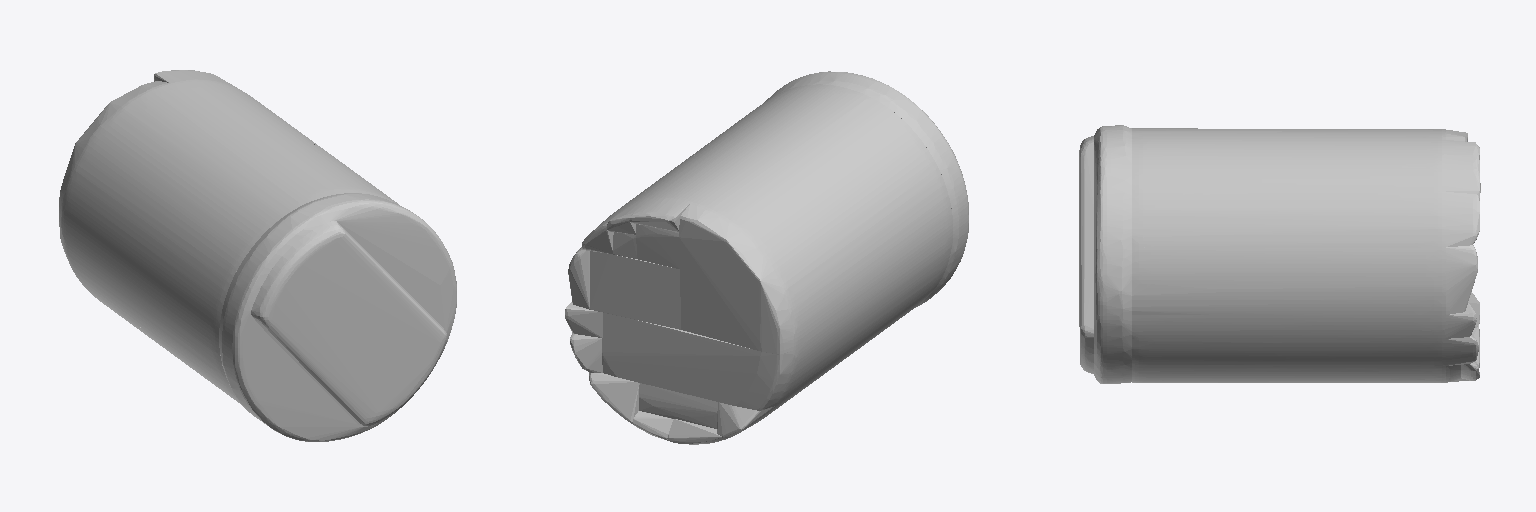
File: coacd_collision.obj
The picture shows the model from 3 angles: view 1: azimuth 30°, elevation 25°; view 2: azimuth 150°, elevation 25°; view 3: azimuth 270°, elevation 25°; orthographic projection.
Parts seen in each view (by area): view 1: geometry_2, geometry_0, geometry_1, geometry_3, geometry_17, geometry_11; view 2: geometry_2, geometry_3, geometry_17, geometry_5, geometry_1, geometry_9, geometry_11, geometry_16, geometry_14, geometry_10, geometry_8, geometry_13 (+5 smaller); view 3: geometry_8, geometry_13, geometry_17, geometry_1, geometry_6, geometry_4, geometry_11, geometry_15, geometry_0, geometry_2.
Part boxes in pixels (x1,y1,x2,y2): geometry_2: (59,81,324,342); geometry_0: (251,221,446,426); geometry_1: (219,193,456,441); geometry_3: (59,223,235,396); geometry_17: (154,70,366,196); geometry_11: (198,71,389,200); geometry_2: (679,88,952,354); geometry_3: (602,235,952,410); geometry_17: (630,84,846,231); geometry_5: (590,251,680,329); geometry_1: (765,71,968,307); geometry_9: (639,383,717,428); geometry_11: (607,86,802,234); geometry_16: (717,291,932,436); geometry_14: (636,224,679,268); geometry_10: (589,373,639,424); geometry_8: (568,247,589,309); geometry_13: (582,95,776,254); geometry_8: (1132,245,1477,314); geometry_13: (1132,191,1479,247); geometry_17: (1132,139,1479,171); geometry_1: (1094,125,1131,383); geometry_6: (1132,334,1478,365); geometry_4: (1132,303,1476,338); geometry_11: (1132,167,1480,197); geometry_15: (1132,365,1460,382); geometry_0: (1079,136,1093,373); geometry_2: (1132,128,1467,141).
Size of the model in its own units: 68.36 by 67.93 by 106.